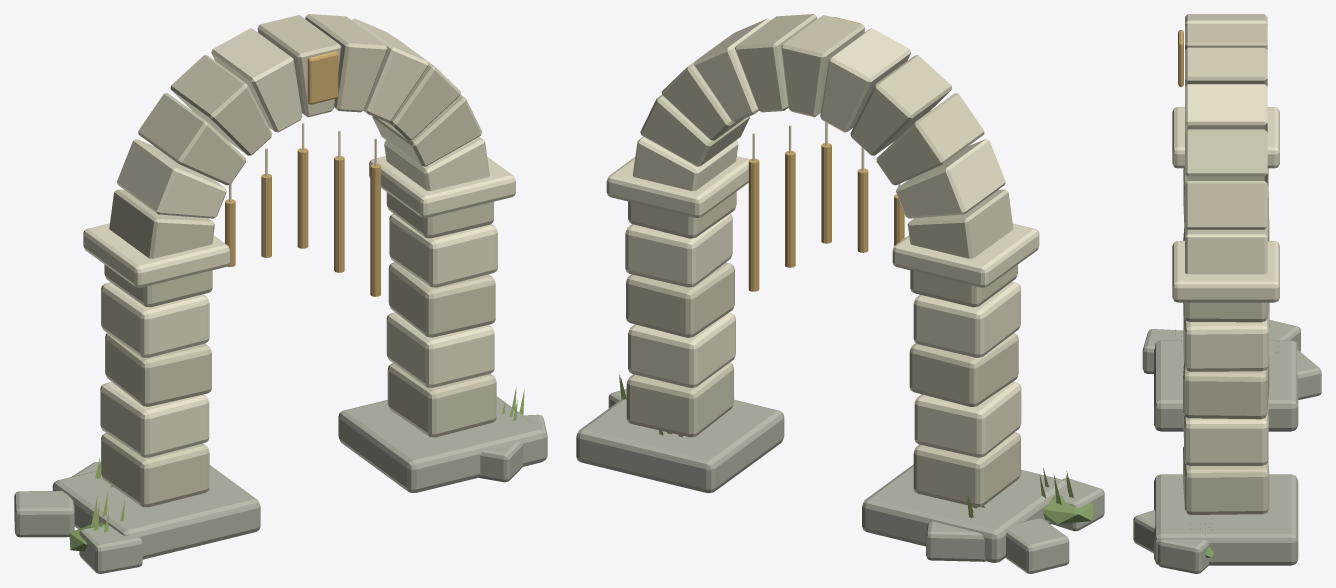
The model's file is trade-wind-arch.glb.
3 views of the same model, side by side, from view 1: azimuth 30°, elevation 25°; view 2: azimuth 150°, elevation 25°; view 3: azimuth 270°, elevation 25° (orthographic). The views are drawn at different scales.
Parts seen in each view (by area): view 1: Static_Warm_limestone, Static_Limestone_light, Static_Limestone_shadow, Static_Aged_brass, Wind_chime_4, Wind_chime_3, Wind_chime_2, Wind_chime_1, Static_Grass; view 2: Static_Warm_limestone, Static_Limestone_light, Static_Limestone_shadow, Wind_chime_4, Wind_chime_3, Wind_chime_2, Wind_chime_1, Static_Moss; view 3: Static_Warm_limestone, Static_Limestone_light, Static_Limestone_shadow, Static_Aged_brass.
Part boxes in pixels (x1=…): Static_Warm_limestone: x1=101, y1=14, x2=496, y2=507; Static_Limestone_light: x1=83, y1=18, x2=515, y2=457; Static_Limestone_shadow: x1=14, y1=396, x2=547, y2=573; Static_Aged_brass: x1=307, y1=51, x2=338, y2=104; Wind_chime_4: x1=370, y1=163, x2=380, y2=296; Wind_chime_3: x1=334, y1=156, x2=344, y2=272; Wind_chime_2: x1=297, y1=148, x2=308, y2=248; Wind_chime_1: x1=261, y1=174, x2=271, y2=257; Static_Grass: x1=91, y1=387, x2=524, y2=532; Static_Warm_limestone: x1=626, y1=14, x2=1020, y2=507; Static_Limestone_light: x1=606, y1=18, x2=1039, y2=457; Static_Limestone_shadow: x1=576, y1=388, x2=1104, y2=573; Wind_chime_4: x1=748, y1=158, x2=759, y2=291; Wind_chime_3: x1=785, y1=151, x2=795, y2=267; Wind_chime_2: x1=821, y1=143, x2=831, y2=243; Wind_chime_1: x1=857, y1=168, x2=868, y2=252; Static_Moss: x1=1043, y1=495, x2=1093, y2=524; Static_Warm_limestone: x1=1183, y1=23, x2=1269, y2=514; Static_Limestone_light: x1=1172, y1=14, x2=1279, y2=465; Static_Limestone_shadow: x1=1133, y1=320, x2=1321, y2=573; Static_Aged_brass: x1=1178, y1=30, x2=1183, y2=86.
Size of the model in its own units: 5.7 by 5 by 1.96.
